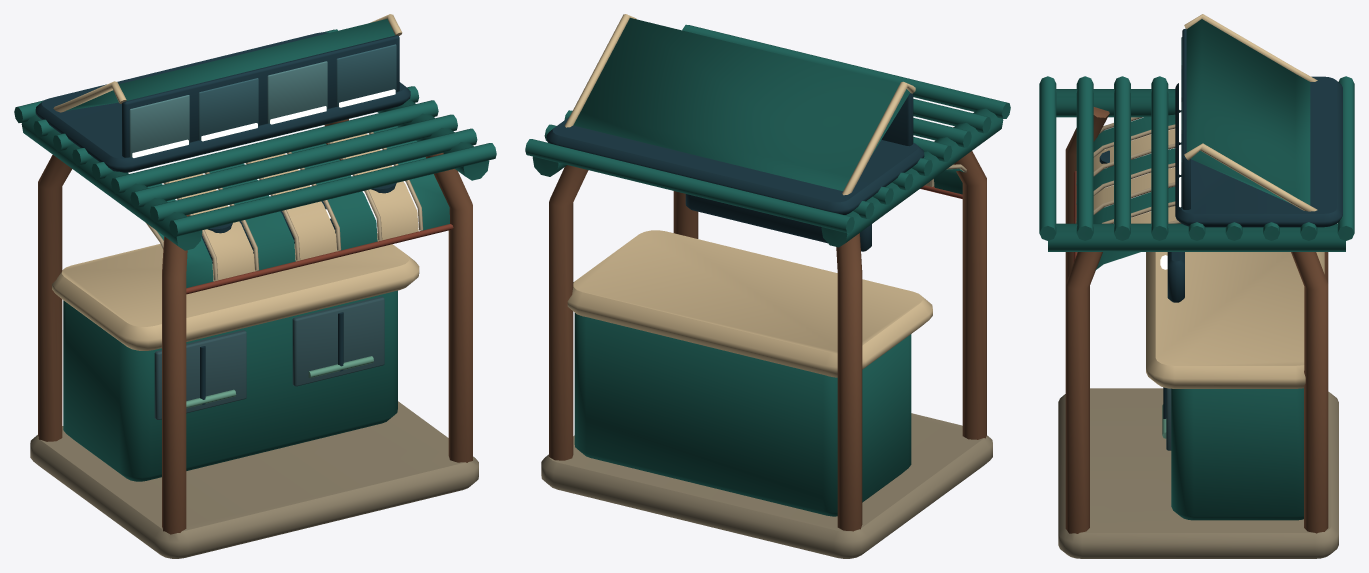
The model's file is annex_market_5.glb.
3 views of the same model, side by side, from view 1: azimuth 30°, elevation 25°; view 2: azimuth 150°, elevation 25°; view 3: azimuth 270°, elevation 25° (orthographic). The views are drawn at different scales.
Parts seen in each view (by area): view 1: Annex_market_5; view 2: Annex_market_5; view 3: Annex_market_5.
Part boxes in pixels (box(x1,y1,x2,y2)): Annex_market_5: box(14, 14, 496, 558); Annex_market_5: box(525, 14, 1010, 558); Annex_market_5: box(1039, 14, 1354, 558).
Size of the model in its own units: 2.24 by 2.82 by 1.98.
